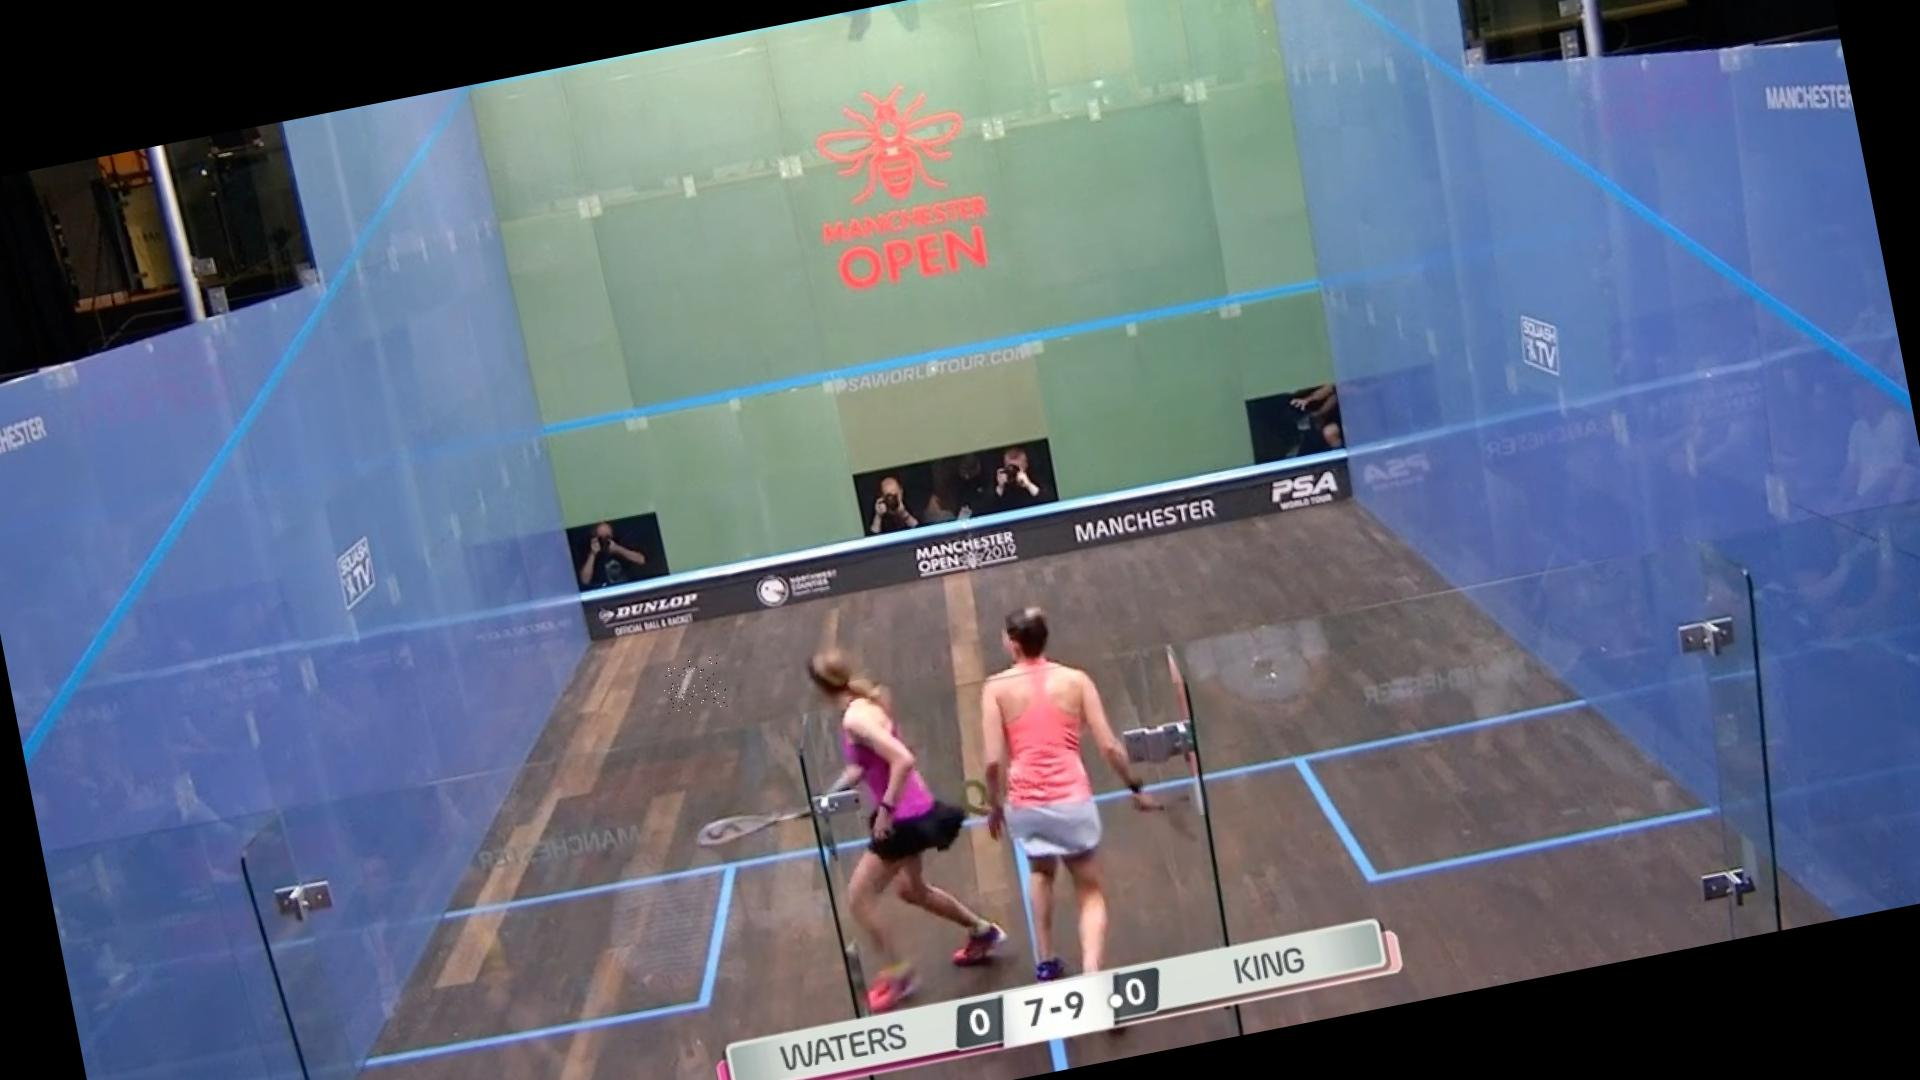Squash-Ball: (657, 654, 729, 717)
